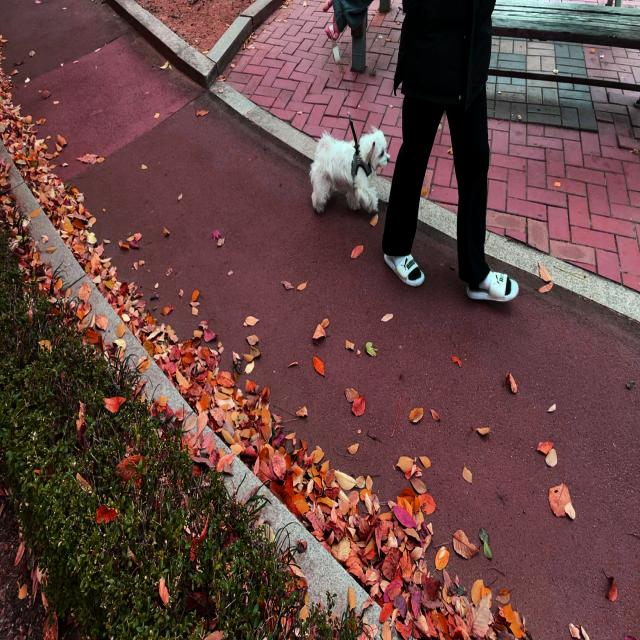Leashed_Dog: (309, 0, 444, 215)
